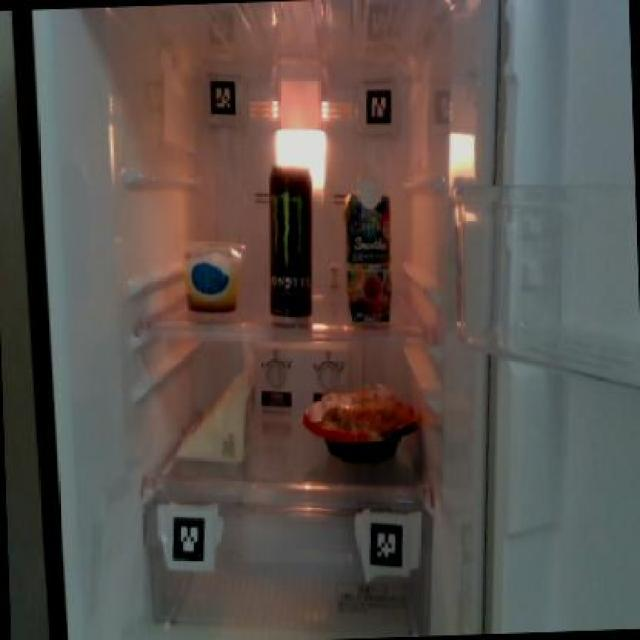bento: (298, 387, 424, 467)
can: (262, 160, 316, 323)
pudding: (181, 234, 247, 316)
sandwich: (168, 353, 260, 467)
smoothie: (341, 170, 396, 330)
